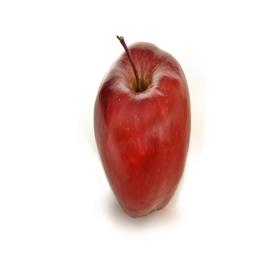Apple Fresh: (89, 31, 197, 230)
